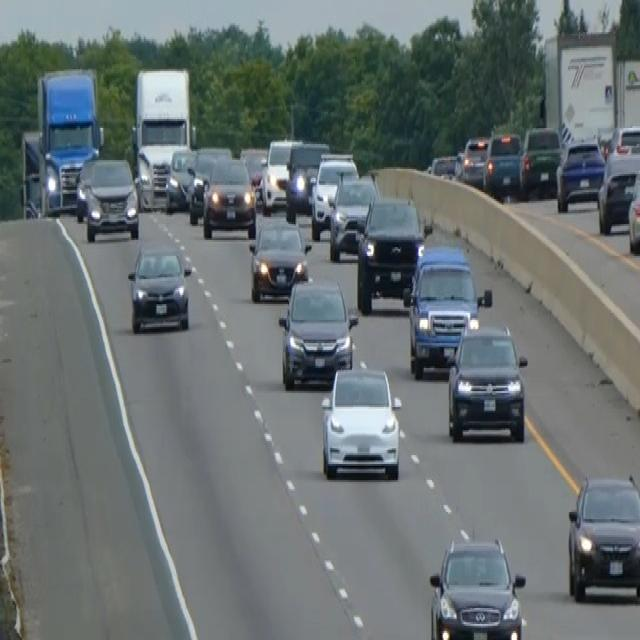car: (402, 242, 490, 377), (446, 320, 528, 443), (566, 471, 639, 603), (277, 276, 357, 390), (355, 193, 424, 314), (127, 240, 192, 332), (248, 215, 310, 302), (84, 154, 139, 242), (201, 153, 256, 238), (328, 175, 379, 262), (310, 151, 359, 240), (555, 135, 605, 212), (284, 138, 329, 220), (597, 147, 639, 233), (187, 144, 231, 224), (520, 122, 562, 196), (260, 135, 301, 210), (483, 130, 523, 197), (164, 144, 196, 212), (74, 154, 100, 220), (458, 133, 489, 187), (240, 144, 267, 204), (626, 167, 639, 254), (607, 122, 639, 156), (428, 151, 457, 180)
jeep: (427, 534, 528, 638), (319, 359, 403, 482)
lorry: (20, 64, 104, 217), (130, 64, 192, 210)
